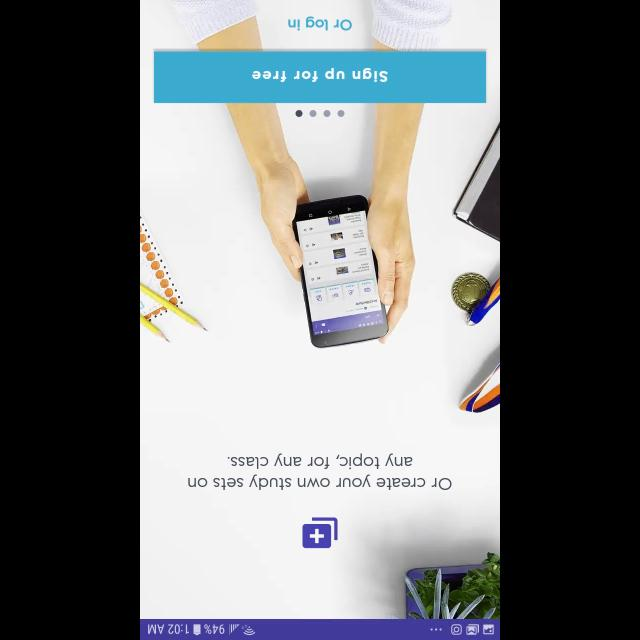backgroundimage: (140, 0, 500, 618)
icon: (302, 518, 338, 548)
pageindicator: (296, 110, 344, 118)
text: (188, 454, 452, 491), (288, 16, 352, 32)
textbutton: (154, 52, 486, 102)
uppertaskbar: (140, 618, 500, 640)
